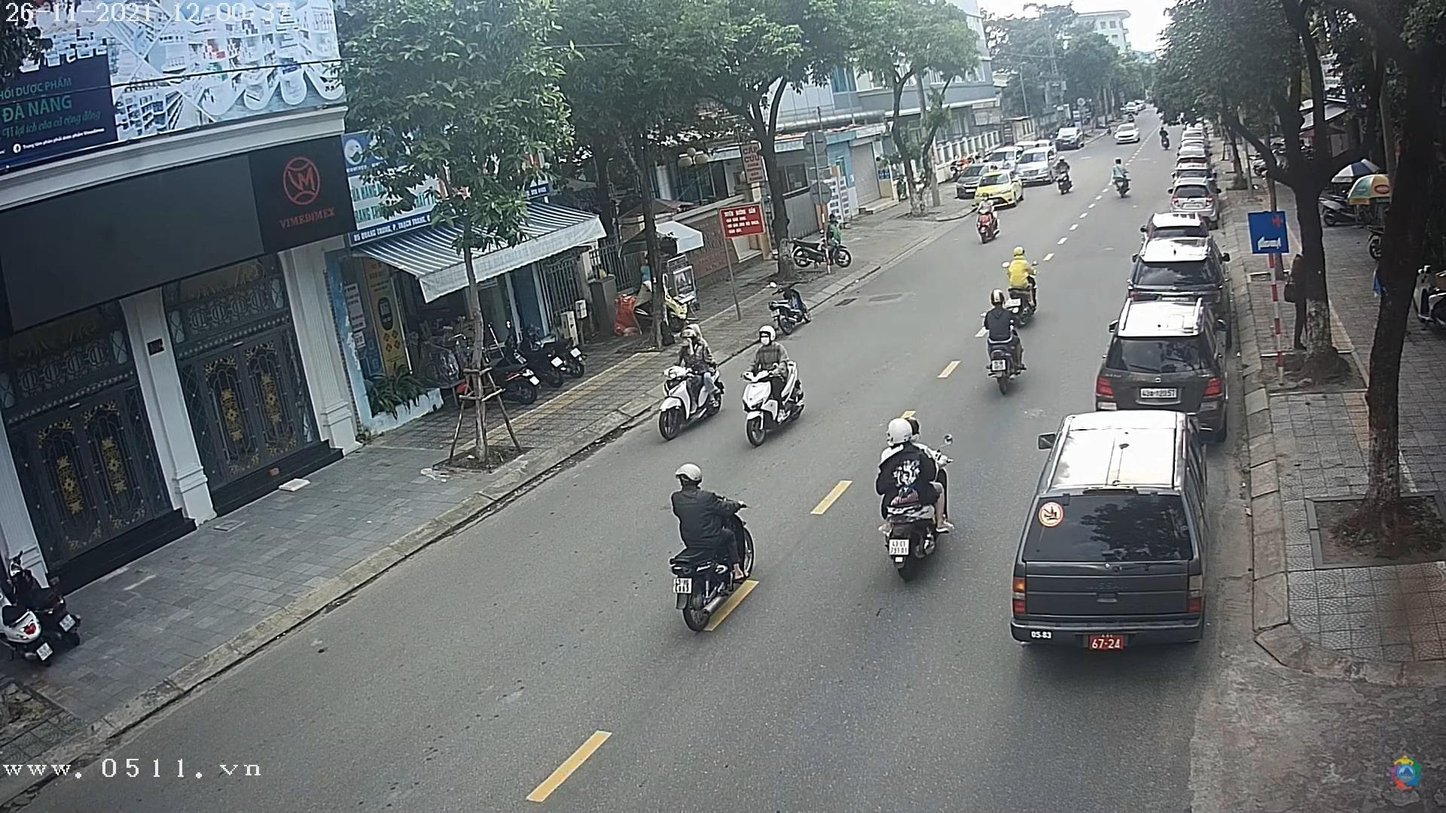car: (1014, 412, 1208, 650), (1096, 316, 1227, 442), (1130, 239, 1231, 301), (1167, 166, 1216, 191), (1057, 126, 1087, 149), (1117, 129, 1142, 144)
motorbike: (871, 443, 950, 564), (672, 544, 759, 632), (652, 366, 726, 445), (739, 359, 808, 440), (984, 328, 1027, 397), (974, 209, 1002, 247)
